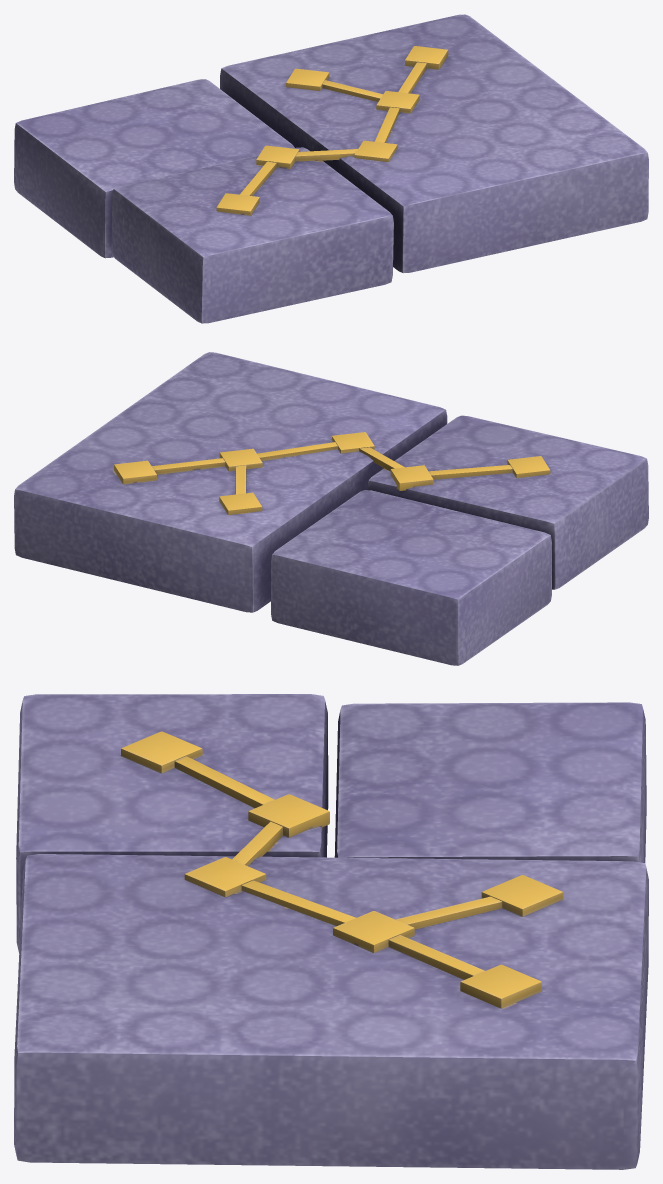
The model's file is Cosmos_Dalle.fbx.
3 renders of one model, top to bottom at view 1: azimuth 30°, elevation 25°; view 2: azimuth 150°, elevation 25°; view 3: azimuth 270°, elevation 25°, orthographic. The views are drawn at different scales.
Parts seen in each view (by area): view 1: Cosmos_Dalle; view 2: Cosmos_Dalle; view 3: Cosmos_Dalle.
Part boxes in pixels (x1,y1,x2,y2): Cosmos_Dalle: (14, 14, 648, 323); Cosmos_Dalle: (14, 352, 648, 665); Cosmos_Dalle: (14, 694, 648, 1169).
Bounding box in the file's own units: 808 × 138 × 598.
Materials: 1 (1 with a texture image).
